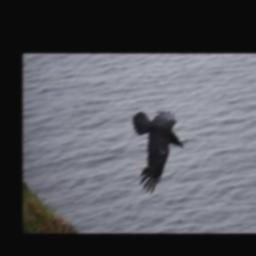Crow: (132, 108, 184, 194)
